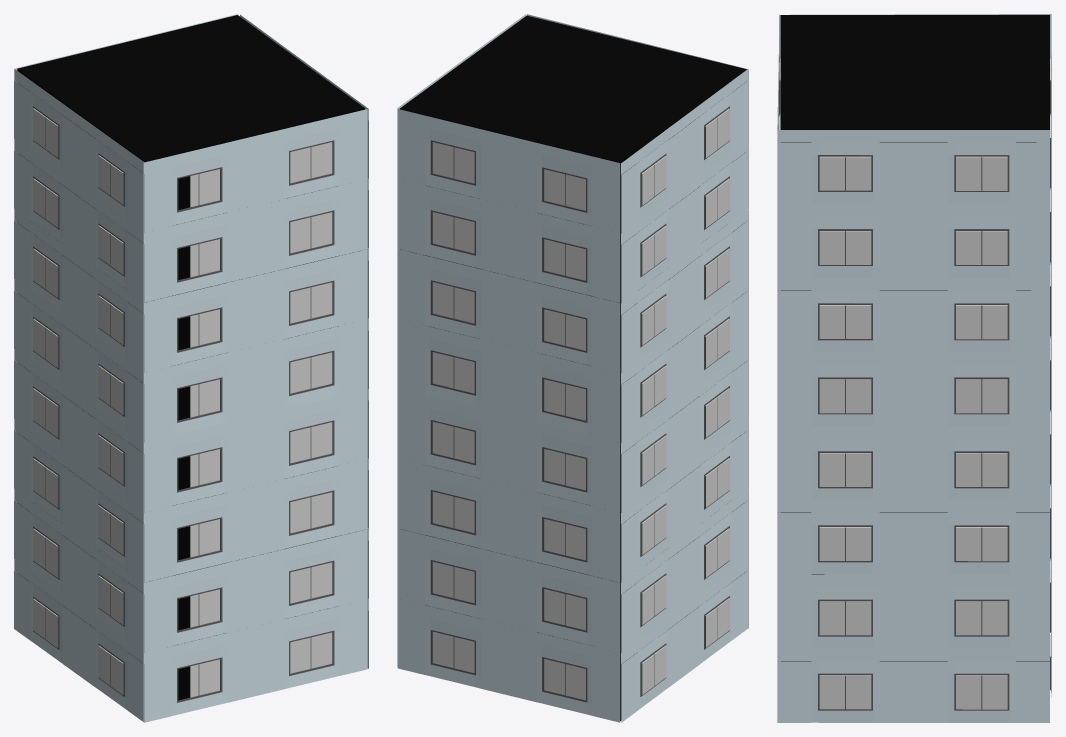
The model's file is Building.fbx.
3 views of the same model, side by side, from view 1: azimuth 30°, elevation 25°; view 2: azimuth 150°, elevation 25°; view 3: azimuth 270°, elevation 25° (orthographic). The views are drawn at different scales.
Visible parts, largest first — view 1: Cube.007, Plane.032, Plane.068, Plane.020, Plane.128, Plane.134, Plane.140, Plane.062, Plane.018, Plane.132, Plane.060, Plane.066 (+86 smaller); view 2: Cube.007, Plane.024, Plane.108, Plane.114, Plane, Plane.054, Plane.048, Plane.102, Plane.096, Plane.050, Plane.104, Plane.116 (+85 smaller); view 3: Cube.007, Plane.084, Plane.090, Plane.174, Plane.180, Plane.186, Plane.085, Plane.092, Plane.175, Plane.187, Plane.091, Plane.181 (+37 smaller).
Boxes of the visible parts, x1,y1,x2,y2 form: Cube.007: [17, 15, 364, 209]; Plane.032: [227, 561, 283, 632]; Plane.068: [227, 421, 283, 492]; Plane.020: [227, 631, 283, 702]; Plane.128: [227, 281, 283, 352]; Plane.134: [227, 211, 283, 282]; Plane.140: [227, 141, 283, 212]; Plane.062: [227, 491, 283, 562]; Plane.018: [283, 617, 339, 689]; Plane.132: [283, 197, 339, 268]; Plane.060: [283, 477, 339, 548]; Plane.066: [283, 407, 339, 478]; Cube.007: [400, 15, 746, 231]; Plane.024: [536, 574, 592, 645]; Plane.108: [536, 224, 592, 295]; Plane.114: [536, 154, 592, 225]; Plane: [536, 644, 592, 715]; Plane.054: [536, 434, 592, 505]; Plane.048: [536, 504, 592, 575]; Plane.102: [536, 294, 592, 365]; Plane.096: [536, 364, 592, 435]; Plane.050: [481, 490, 536, 562]; Plane.104: [481, 281, 536, 352]; Plane.116: [481, 141, 536, 212]; Cube.007: [780, 15, 1049, 142]; Plane.084: [811, 512, 879, 574]; Plane.090: [811, 438, 879, 500]; Plane.174: [811, 290, 879, 352]; Plane.180: [811, 216, 879, 278]; Plane.186: [811, 142, 879, 204]; Plane.085: [947, 512, 1015, 574]; Plane.092: [879, 438, 947, 500]; Plane.175: [947, 290, 1015, 352]; Plane.187: [947, 142, 1015, 204]; Plane.091: [947, 438, 1015, 500]; Plane.181: [947, 216, 1015, 278].
Bounding box in the file's own units: 816 × 1920 × 805.
